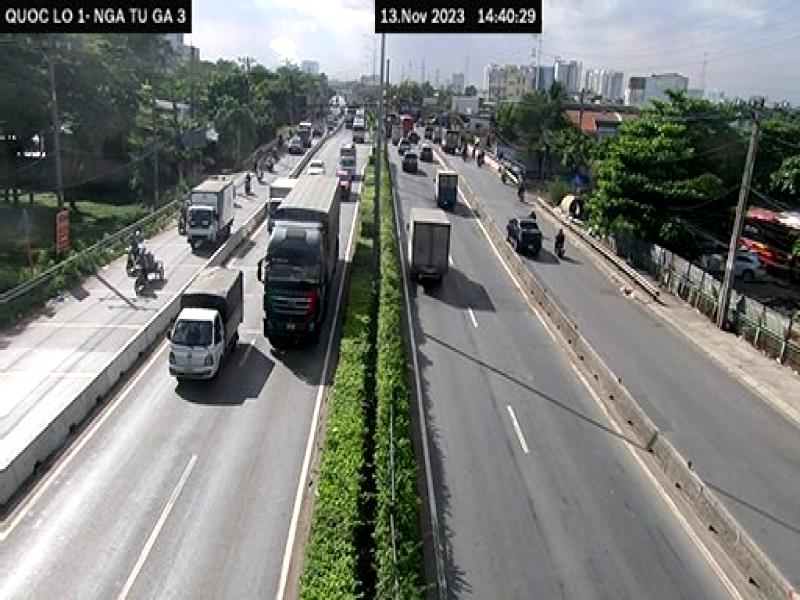truck: (256, 172, 345, 350), (188, 172, 234, 258)
